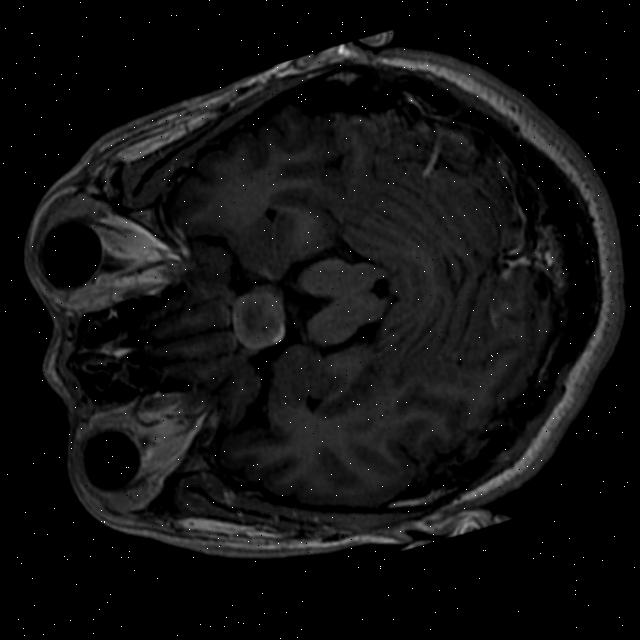Pituitary: (226, 281, 290, 353)
